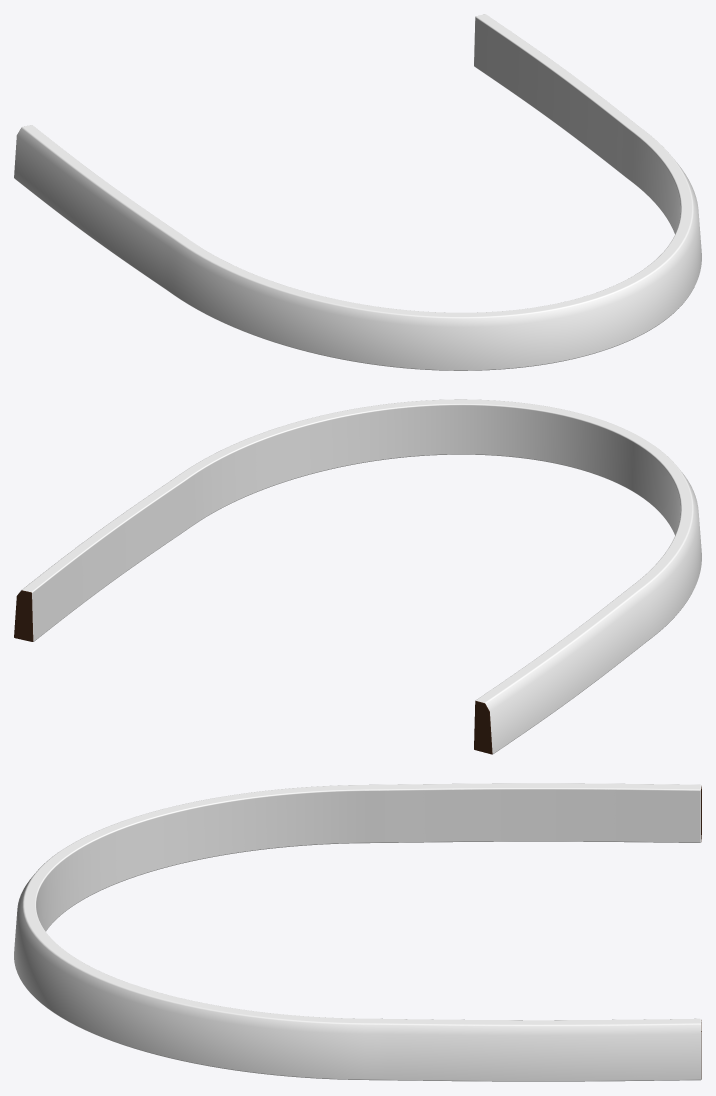
The model's file is Piece_03_Leather_Rand.glb.
3 views of the same model, one above another, from view 1: azimuth 30°, elevation 25°; view 2: azimuth 150°, elevation 25°; view 3: azimuth 270°, elevation 25° (orthographic). The views are drawn at different scales.
Visible parts, largest first — view 1: Piece_03_Leather_Rand; view 2: Piece_03_Leather_Rand; view 3: Piece_03_Leather_Rand.
Part boxes in pixels (bbox=[...]): Piece_03_Leather_Rand: bbox=[14, 14, 701, 370]; Piece_03_Leather_Rand: bbox=[14, 399, 701, 754]; Piece_03_Leather_Rand: bbox=[14, 783, 701, 1081].
Bounding box in the file's own units: 0.0688 × 0.0068 × 0.08.
